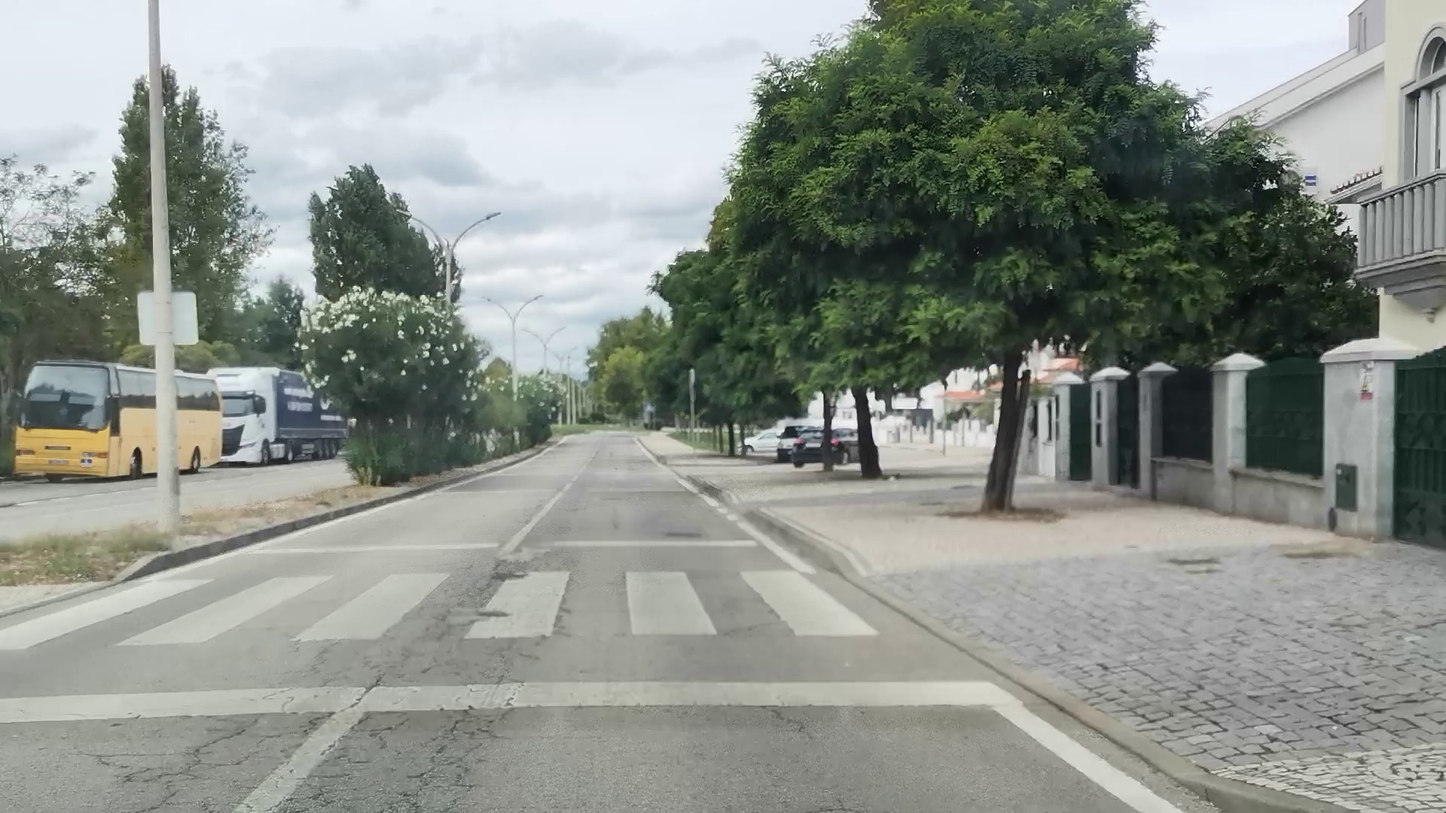Stairs: (0, 566, 885, 647)
